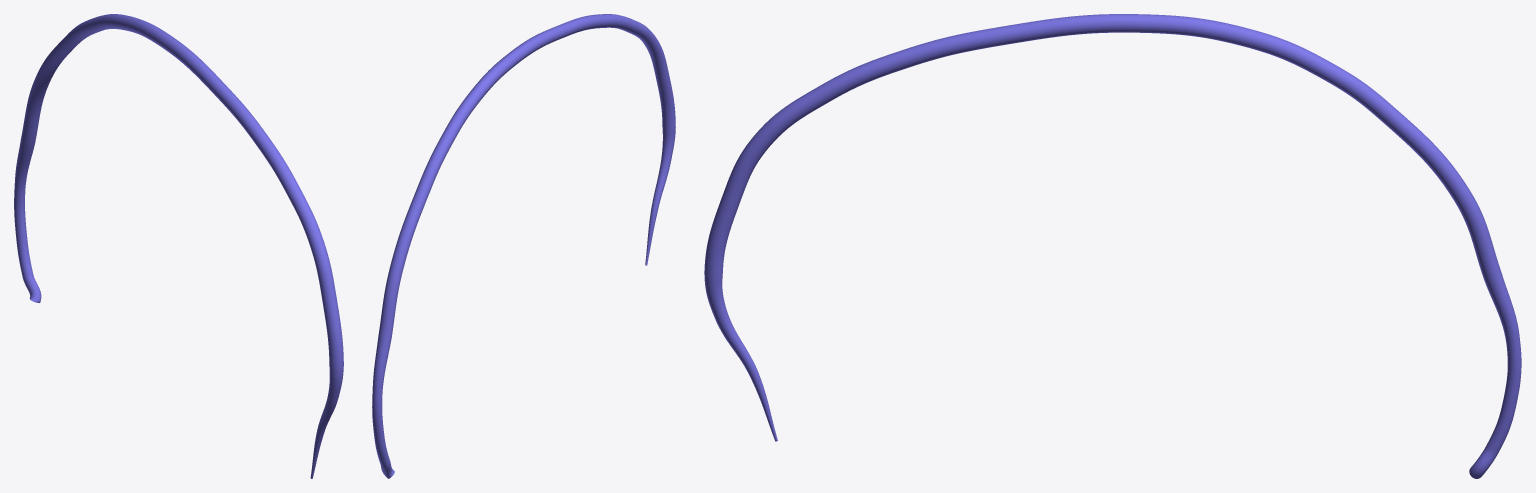
File: Superior_sagittal_sinus.001_BezierCurve.466.glb
3 views of the same model, side by side, from view 1: azimuth 30°, elevation 25°; view 2: azimuth 150°, elevation 25°; view 3: azimuth 270°, elevation 25° (orthographic). The views are drawn at different scales.
Parts seen in each view (by area): view 1: Superior_sagittal_sinus.001_BezierCurve.466; view 2: Superior_sagittal_sinus.001_BezierCurve.466; view 3: Superior_sagittal_sinus.001_BezierCurve.466.
Part boxes in pixels (x1,y1,x2,y2): Superior_sagittal_sinus.001_BezierCurve.466: [14, 14, 343, 478]; Superior_sagittal_sinus.001_BezierCurve.466: [372, 14, 675, 478]; Superior_sagittal_sinus.001_BezierCurve.466: [704, 14, 1521, 478].
Bounding box in the file's own units: 0.00411 × 0.1077 × 0.1726.
